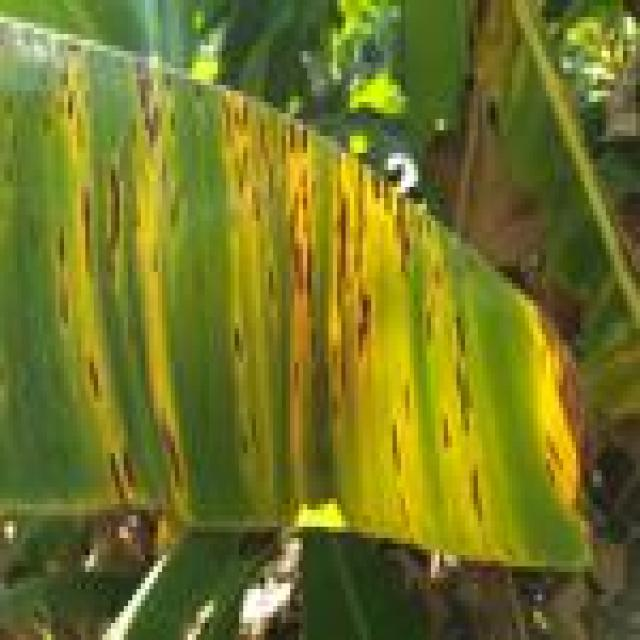Early_rust: (0, 19, 604, 618)
